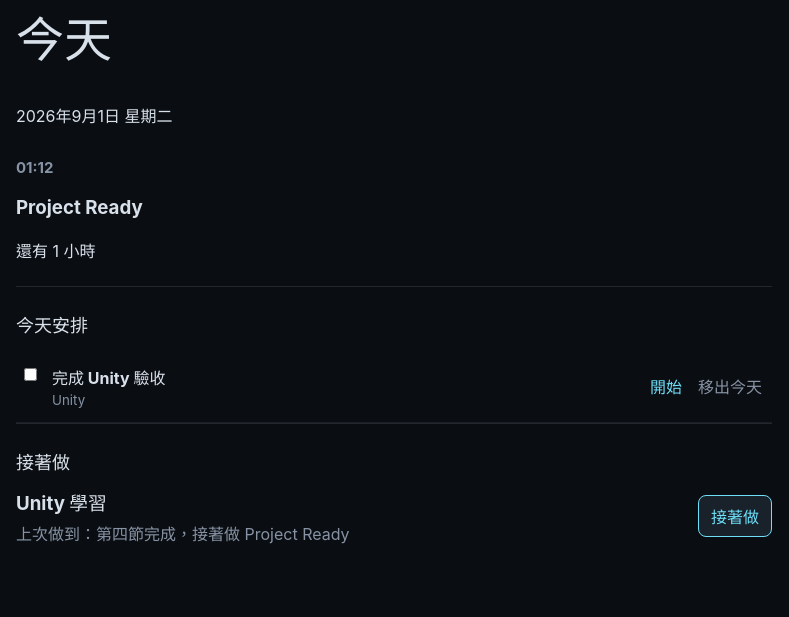
Test: TodayWorkspace › keeps other Today domains usable when planning fails
The image size is (789, 617).
Step 1. Click the button "移出今天" → click(730, 386), box top-left (692, 373), bottom-right (768, 399)
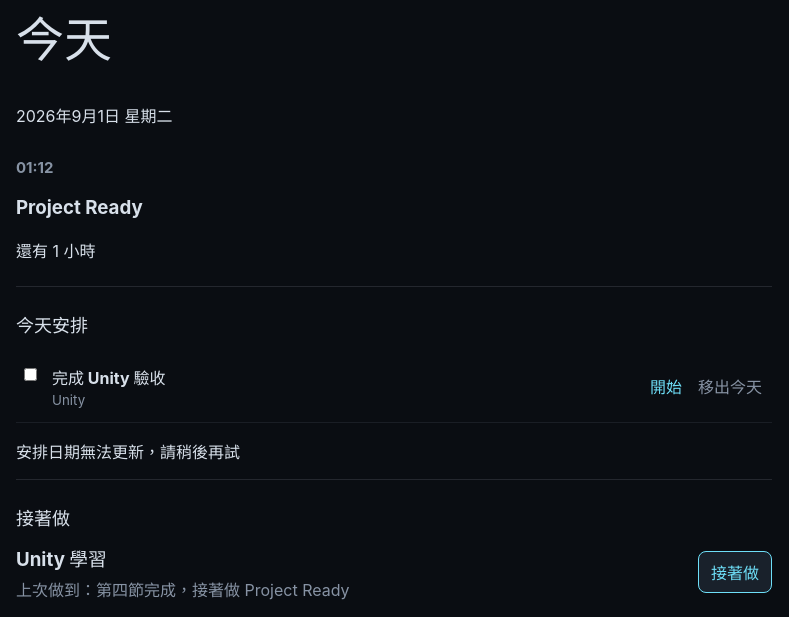
Check: the text "完成 Unity 驗收" is shown, box top-left (52, 365), bottom-right (165, 389)
Check: the message shows "安排日期無法更新", box top-left (16, 442), bottom-right (240, 462)
